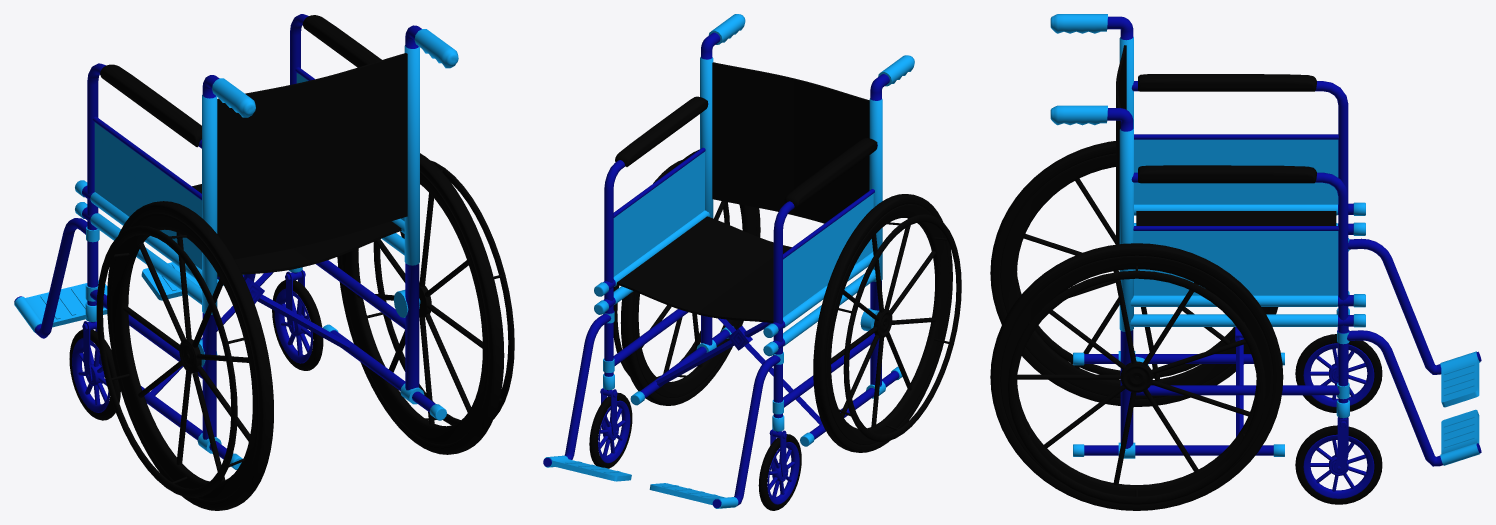
File: Wheelchair.glb
The picture shows the model from 3 angles, left to right: view 1: azimuth 30°, elevation 25°; view 2: azimuth 150°, elevation 25°; view 3: azimuth 270°, elevation 25°; orthographic projection. The views are drawn at different scales.
Visible parts, largest first — view 1: Estructura, Rueda trasera izquierda, Rueda trasera derecha, Rueda delantera derecha, Rueda delantera izquierda; view 2: Estructura, Rueda trasera izquierda, Rueda trasera derecha, Rueda delantera izquierda, Rueda delantera derecha; view 3: Estructura, Rueda trasera derecha, Rueda trasera izquierda, Rueda delantera derecha, Rueda delantera izquierda, Eje rueda derecha.
Boxes of the visible parts, bbox=[...] form: Estructura: bbox=[14, 14, 458, 469]; Rueda trasera izquierda: bbox=[96, 201, 273, 510]; Rueda trasera derecha: bbox=[337, 153, 514, 454]; Rueda delantera derecha: bbox=[272, 280, 323, 370]; Rueda delantera izquierda: bbox=[69, 329, 120, 420]; Estructura: bbox=[543, 14, 914, 508]; Rueda trasera izquierda: bbox=[813, 194, 961, 452]; Rueda trasera derecha: bbox=[613, 149, 760, 405]; Rueda delantera izquierda: bbox=[758, 434, 801, 510]; Rueda delantera derecha: bbox=[589, 392, 632, 468]; Estructura: bbox=[1050, 14, 1481, 466]; Rueda trasera derecha: bbox=[990, 243, 1283, 510]; Rueda trasera izquierda: bbox=[990, 141, 1278, 406]; Rueda delantera derecha: bbox=[1295, 425, 1382, 504]; Rueda delantera izquierda: bbox=[1295, 334, 1382, 412]; Eje rueda derecha: bbox=[1334, 417, 1348, 472].
Bounding box in the file's own units: 9.42 × 13.76 × 15.38.
